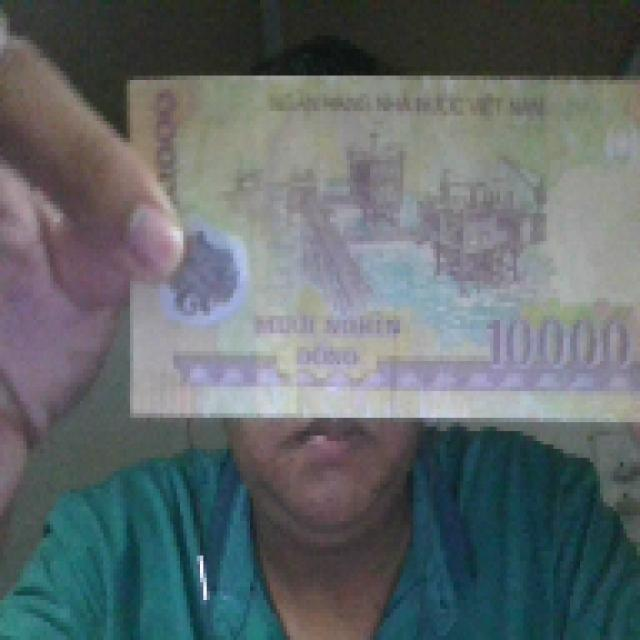10 000 VND: (120, 66, 637, 426)
